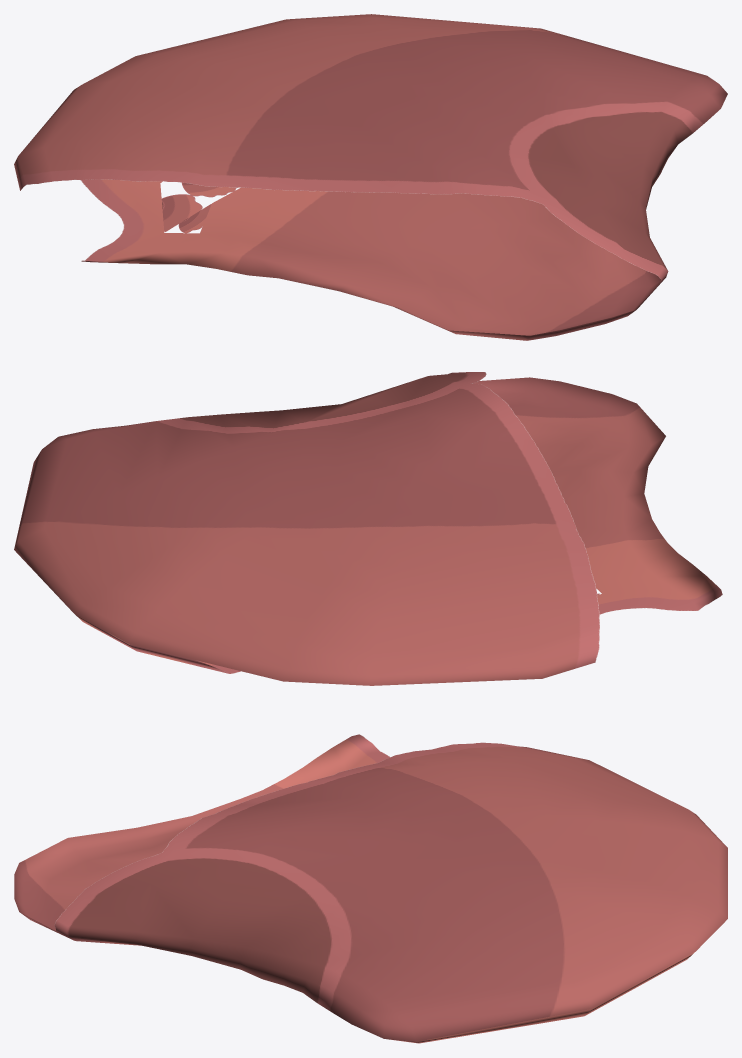
Rendered from ShellFix.fbx.
3 views of the same model, one above another, from view 1: azimuth 30°, elevation 25°; view 2: azimuth 150°, elevation 25°; view 3: azimuth 270°, elevation 25° (orthographic). The views are drawn at different scales.
Parts seen in each view (by area): view 1: SeaShell_Low; view 2: SeaShell_Low; view 3: SeaShell_Low.
Part boxes in pixels (x1,y1,x2,y2): SeaShell_Low: (14,14,727,340); SeaShell_Low: (14,372,722,685); SeaShell_Low: (14,734,727,1043).
Size of the model in its own units: 67.37 by 7.83 by 65.51.
